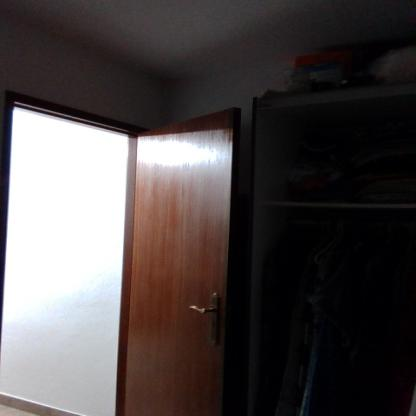open: (0, 100, 238, 411)
